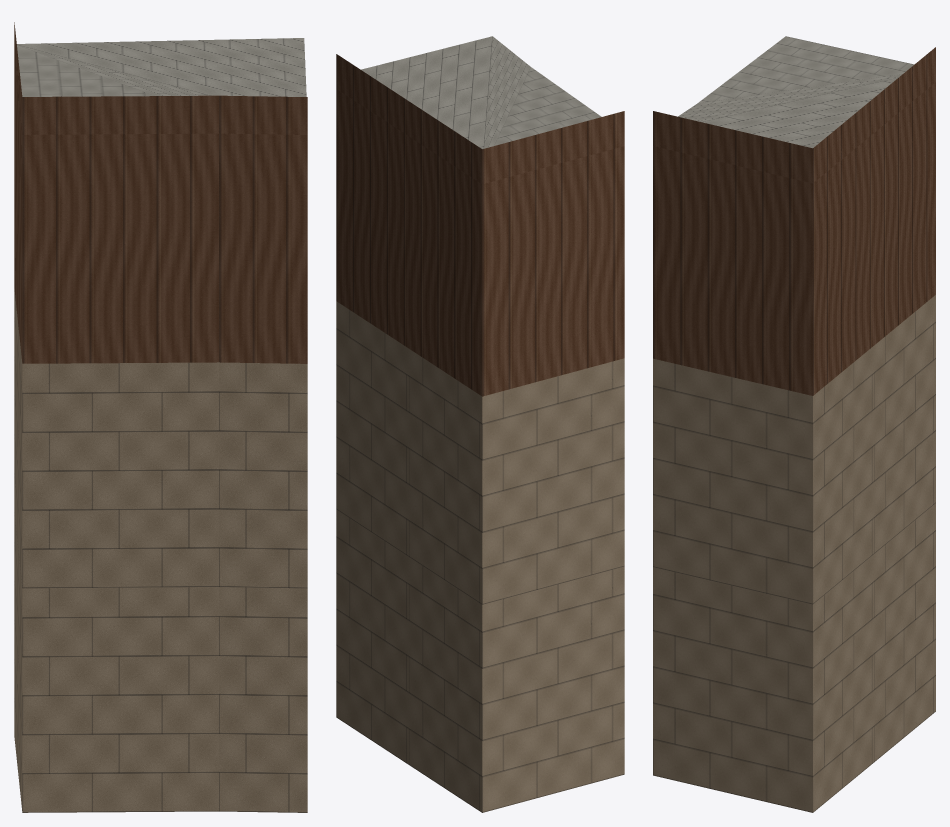
File: bld_c-22_12_546.gltf
3 renders of one model, left to right at view 1: azimuth 30°, elevation 25°; view 2: azimuth 150°, elevation 25°; view 3: azimuth 270°, elevation 25°, orthographic. The views are drawn at different scales.
Visible parts, largest first — view 1: bld_c-22_12_546; view 2: bld_c-22_12_546; view 3: bld_c-22_12_546.
Boxes of the visible parts, box(x1,y1,x2,y2) form: bld_c-22_12_546: box(14, 22, 307, 812); bld_c-22_12_546: box(336, 36, 624, 812); bld_c-22_12_546: box(653, 36, 935, 812).
Bounding box in the file's own units: 3.11 × 7.18 × 2.77.
Materials: 4 (4 with a texture image).
